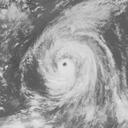cyclone: (27, 2, 113, 108)
